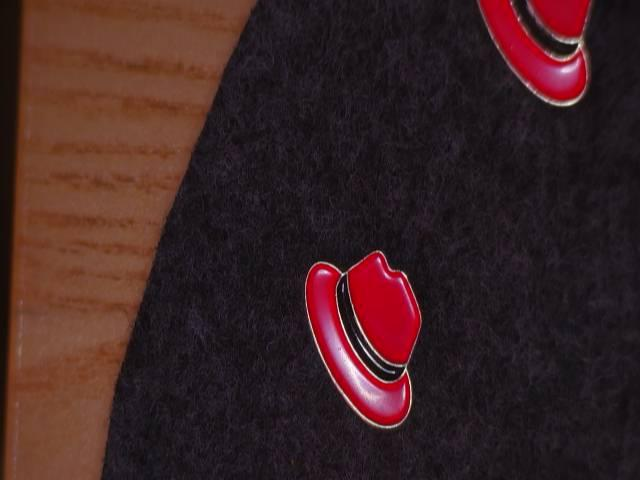Red-Hat: (277, 227, 459, 447), (455, 0, 595, 132)
